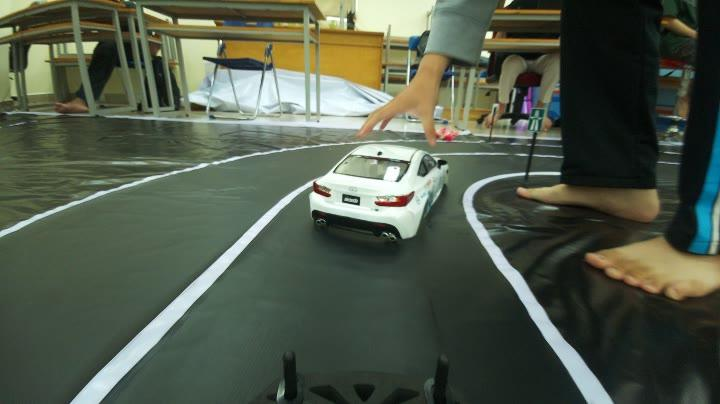car: (308, 140, 450, 244)
highway_entry: (517, 104, 549, 144)
